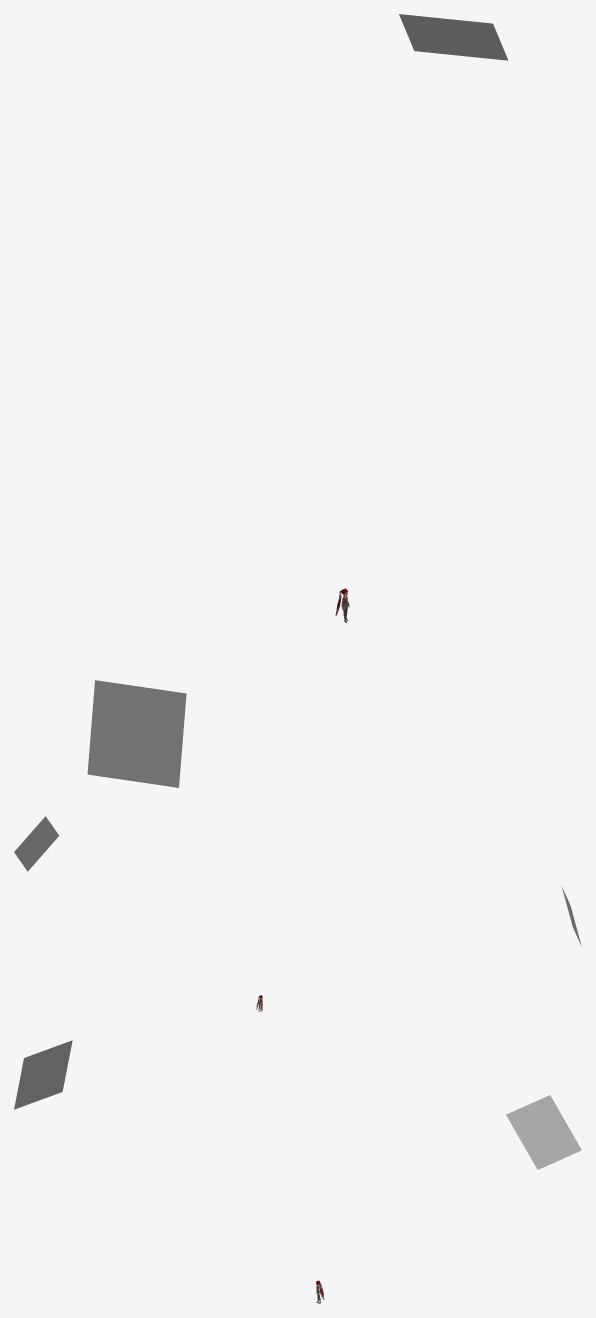
The picture shows the model from 3 angles, top to bottom: view 1: azimuth 30°, elevation 25°; view 2: azimuth 150°, elevation 25°; view 3: azimuth 270°, elevation 25°; orthographic projection. The views are drawn at different scales.
Visible parts, largest first — view 1: Plane.001_Plane.002, Plane.008_Plane.000; view 2: Plane.008_Plane.000; view 3: Plane.008_Plane.000, Plane.001_Plane.002.
Part boxes in pixels (box(x1,y1,x2,y2)): Plane.001_Plane.002: box(87, 680, 186, 787); Plane.008_Plane.000: box(399, 14, 508, 60); Plane.008_Plane.000: box(14, 816, 59, 871); Plane.008_Plane.000: box(506, 1095, 581, 1169); Plane.001_Plane.002: box(14, 1040, 72, 1109).
Size of the model in its own units: 73.83 by 38.45 by 70.22.
